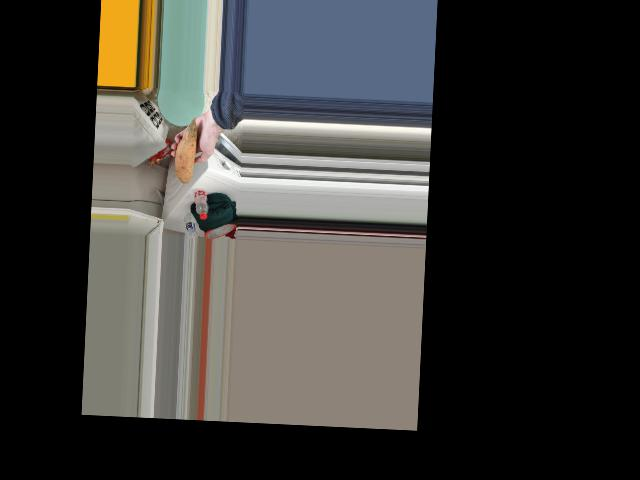sweet_potato: (173, 121, 197, 177)
